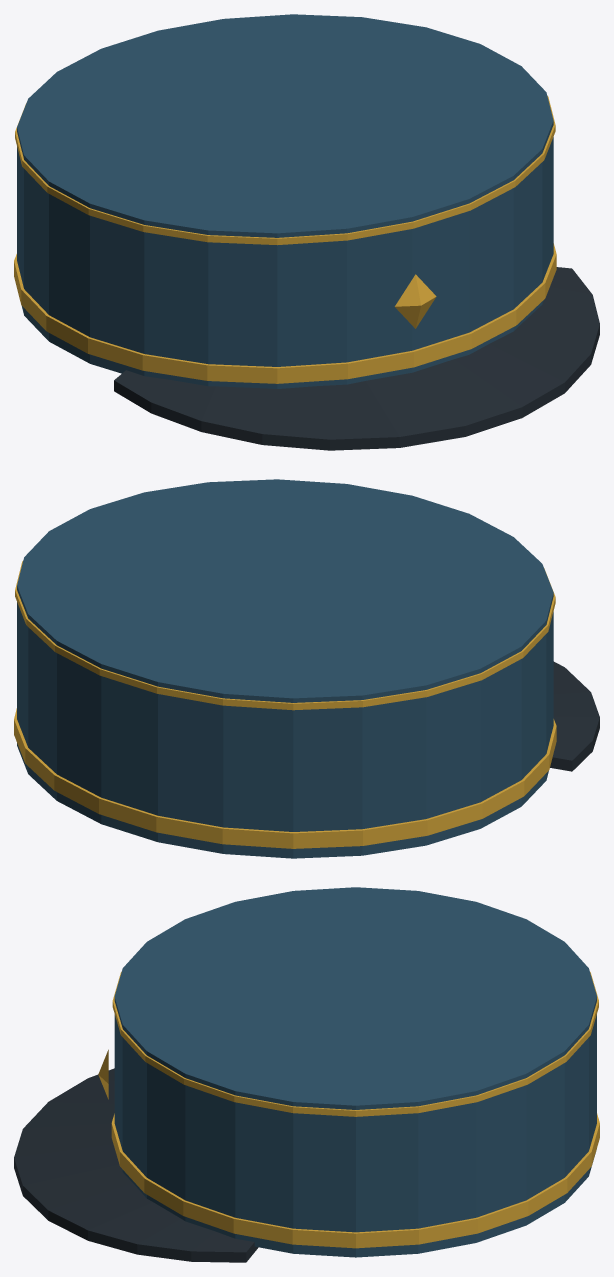
File: cap-before.glb
3 views of the same model, one above another, from view 1: azimuth 30°, elevation 25°; view 2: azimuth 150°, elevation 25°; view 3: azimuth 270°, elevation 25° (orthographic). The views are drawn at different scales.
Parts seen in each view (by area): view 1: wear_head_conductor_drum, wear_head_conductor_peak, wear_head_conductor_brass_band, wear_head_conductor_brass_crown, wear_head_conductor_badge; view 2: wear_head_conductor_drum, wear_head_conductor_brass_band, wear_head_conductor_brass_crown, wear_head_conductor_peak; view 3: wear_head_conductor_drum, wear_head_conductor_peak, wear_head_conductor_brass_band, wear_head_conductor_brass_crown.
Part boxes in pixels (<box>): wear_head_conductor_drum: <box>17,14,553,388</box>; wear_head_conductor_peak: <box>114,267,599,450</box>; wear_head_conductor_brass_band: <box>14,243,556,383</box>; wear_head_conductor_brass_crown: <box>15,96,555,245</box>; wear_head_conductor_badge: <box>394,274,436,328</box>; wear_head_conductor_drum: <box>17,479,553,858</box>; wear_head_conductor_brass_band: <box>14,708,556,848</box>; wear_head_conductor_brass_crown: <box>15,561,555,710</box>; wear_head_conductor_peak: <box>550,661,599,771</box>; wear_head_conductor_drum: <box>114,887,596,1257</box>; wear_head_conductor_peak: <box>14,1068,258,1262</box>; wear_head_conductor_brass_band: <box>111,1113,599,1248</box>; wear_head_conductor_brass_crown: <box>112,972,598,1116</box>.
Size of the model in its own units: 0.546 by 0.1977 by 0.612.
